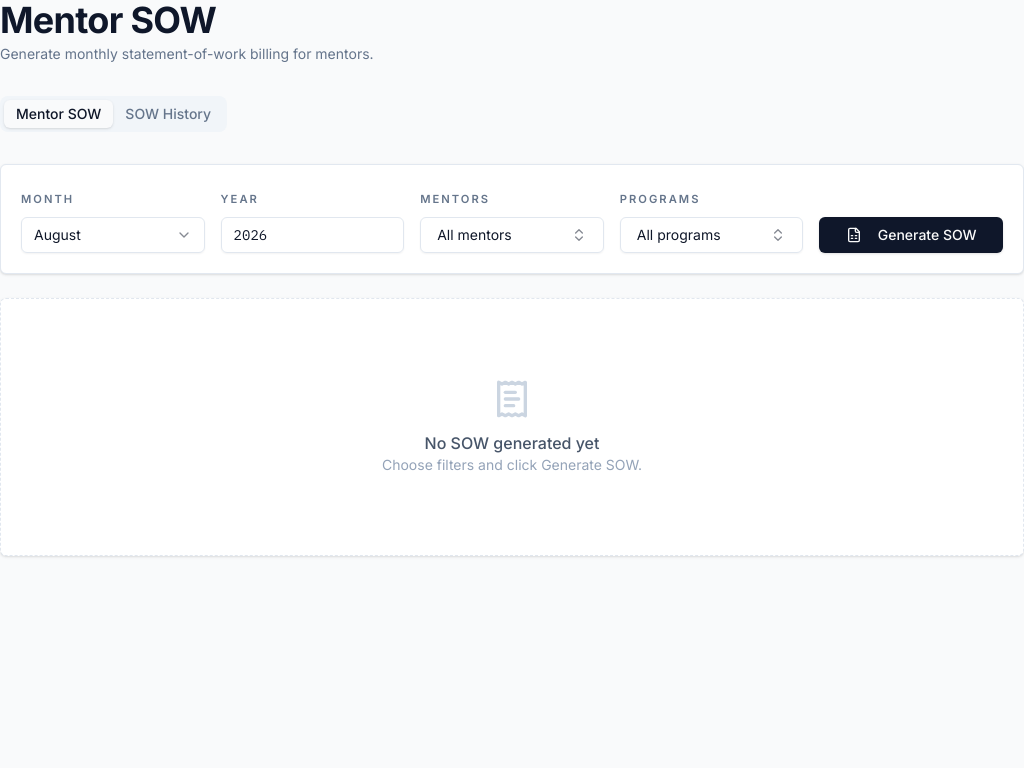
Scenario: SOW — Mentor SOW tab › a removed schedule change shows the removed-specific message
What coordinates should you click on to do the following:
click the button with test id "sow-generate-btn"
I would click on:
 (911, 235)
Its box is left=819, top=217, right=1003, bottom=253.
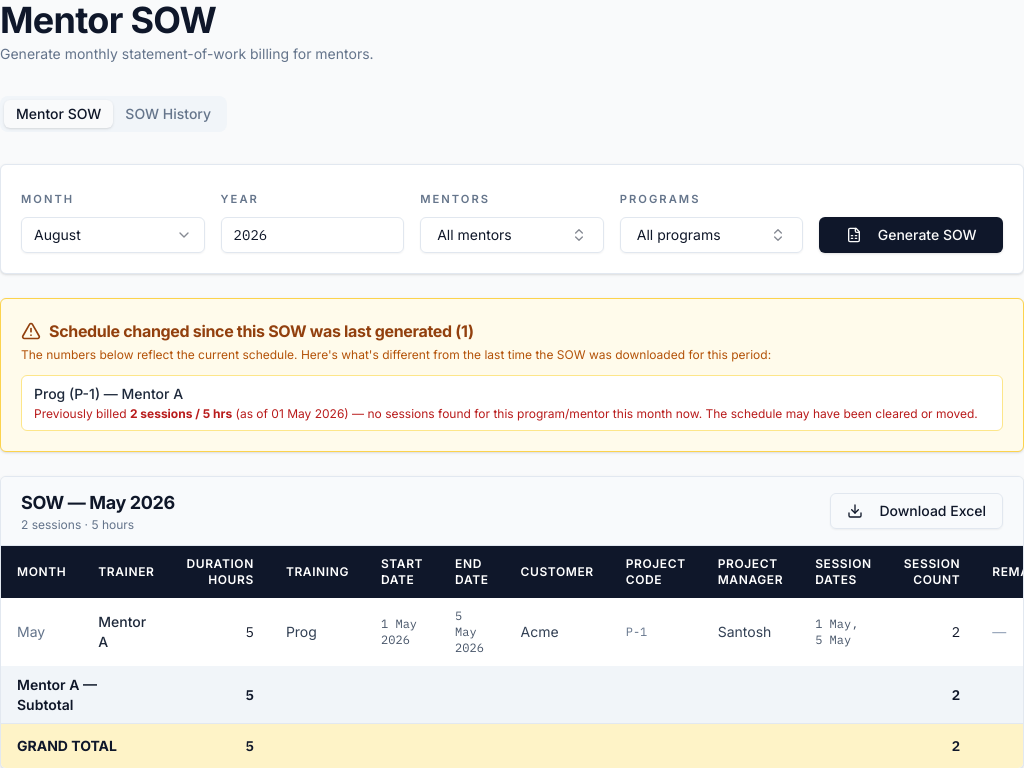
Expected: the text "schedule may have been cleared or moved" is shown, left=349, top=406, right=978, bottom=421
